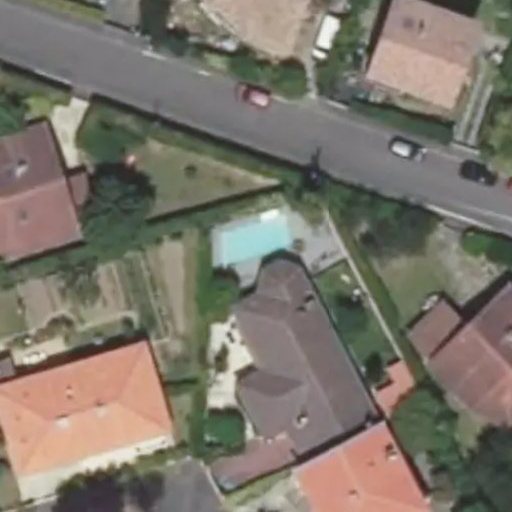pool: (210, 235, 294, 248)
